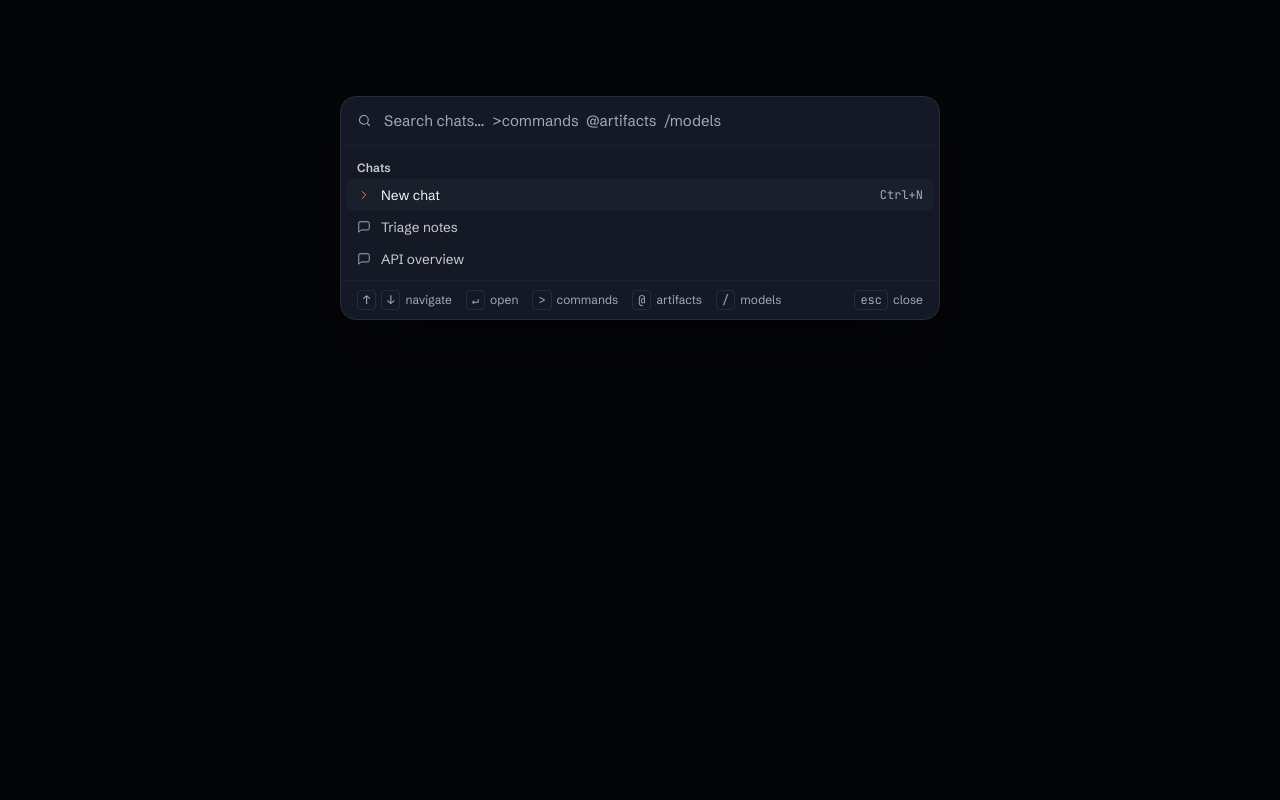
Test: CommandPalette prefix modes › > filters the command corpus only
The width and height of the screenshot is (1280, 800).
Type ">" into the search field.
click(652, 121); type(">")  # box [382,110,923,132]
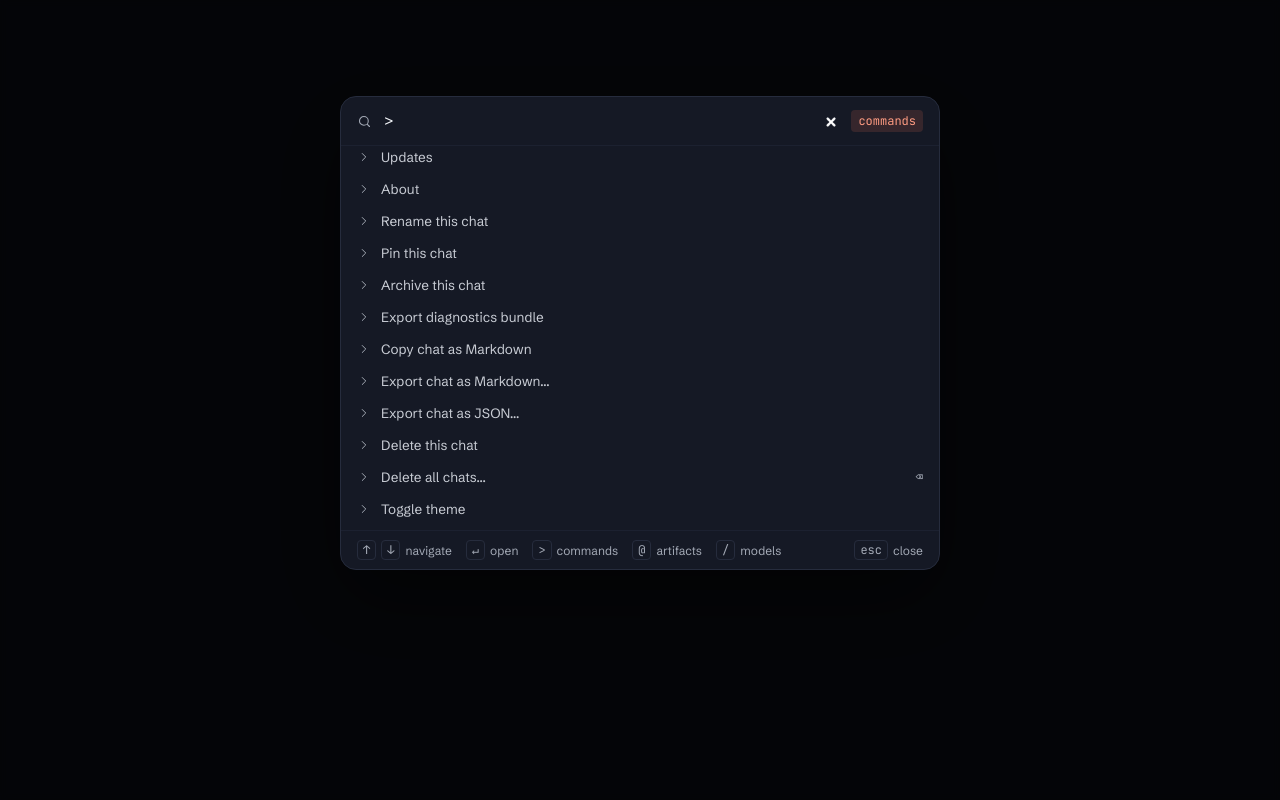
Result: the option "Delete this chat" is shown at [346,429,934,461]
Result: the option "Triage notes" is gone
